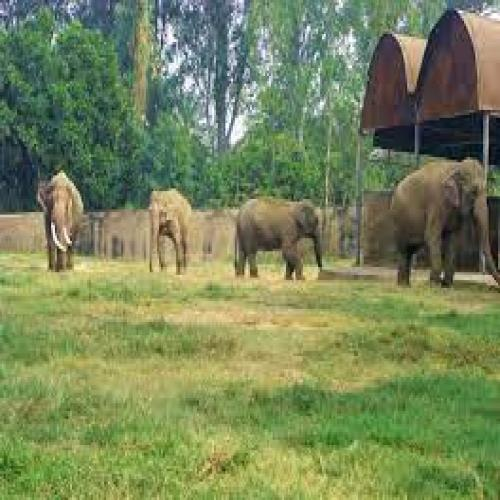asian_elephant-endangered: (392, 156, 500, 289), (235, 197, 323, 282), (37, 172, 88, 269), (150, 190, 190, 272)
